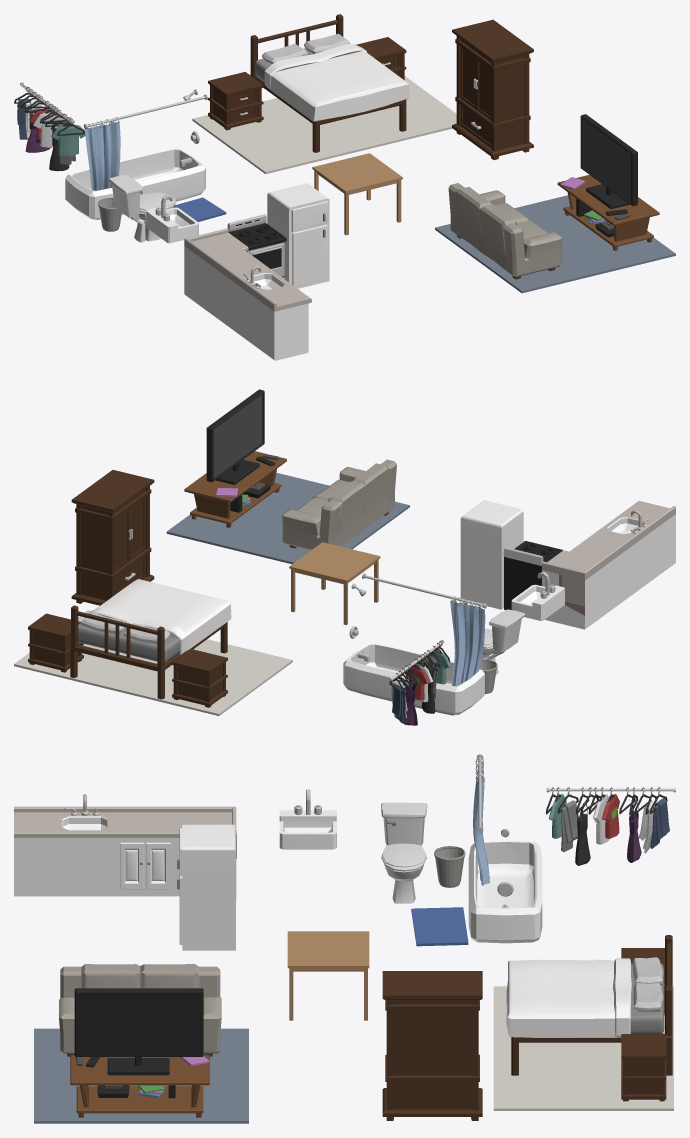
The model's file is NonInteractables_02.fbx.
3 renders of one model, top to bottom at view 1: azimuth 30°, elevation 25°; view 2: azimuth 150°, elevation 25°; view 3: azimuth 270°, elevation 25°, orthographic. The views are drawn at different scales.
Visible parts, largest first — view 1: TV_pasted__pasted__polySurface4; view 2: TV_pasted__pasted__polySurface4; view 3: TV_pasted__pasted__polySurface4.
Part boxes in pixels (box(x1,y1,x2,y2)): TV_pasted__pasted__polySurface4: box(14, 14, 675, 360); TV_pasted__pasted__polySurface4: box(14, 389, 675, 725); TV_pasted__pasted__polySurface4: box(14, 754, 675, 1123).
Bounding box in the file's own units: 13.02 × 3.14 × 14.73.
